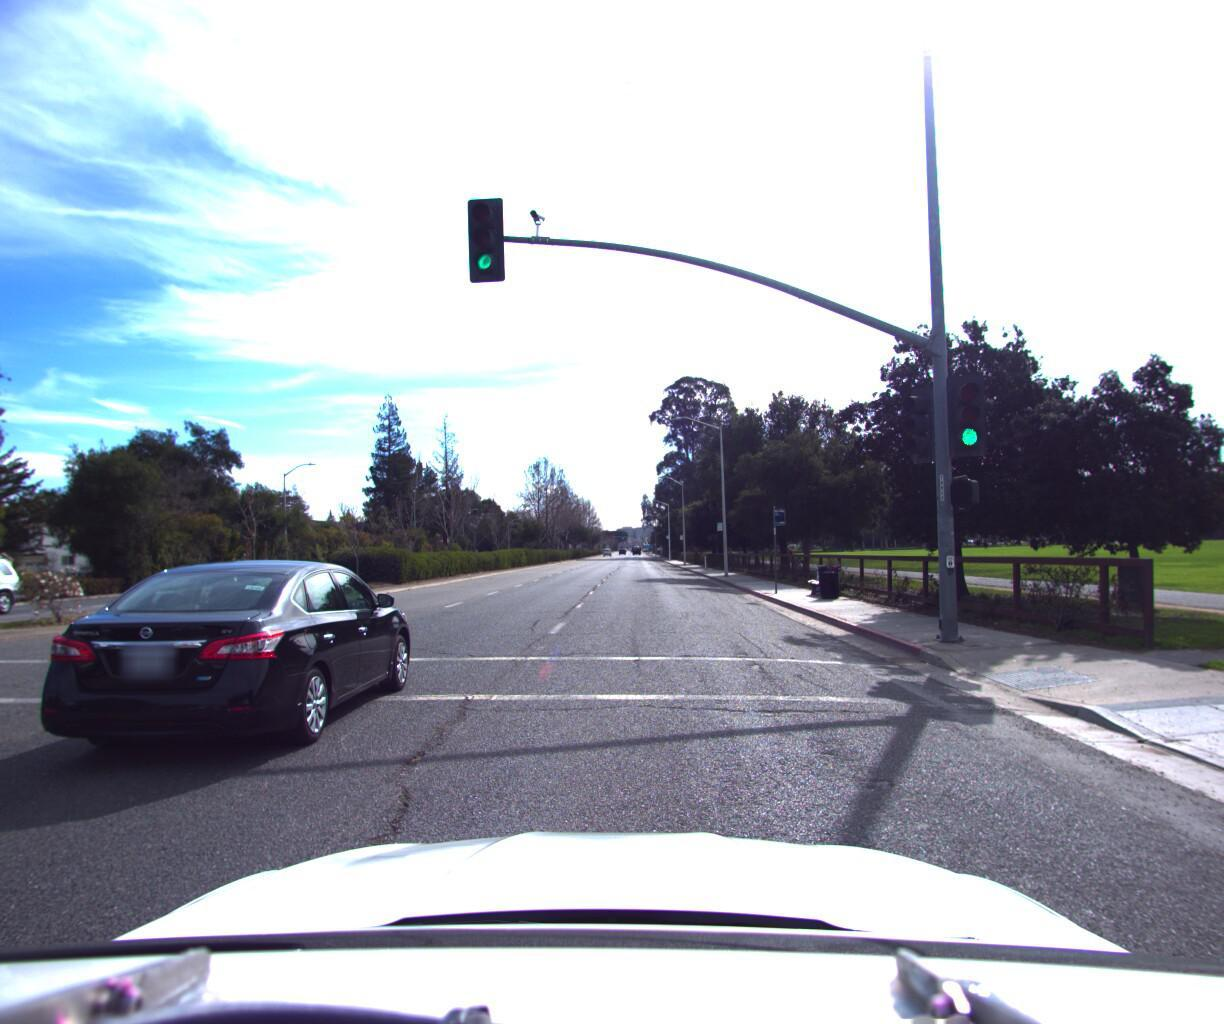car: (13, 547, 421, 784), (0, 553, 44, 627)
